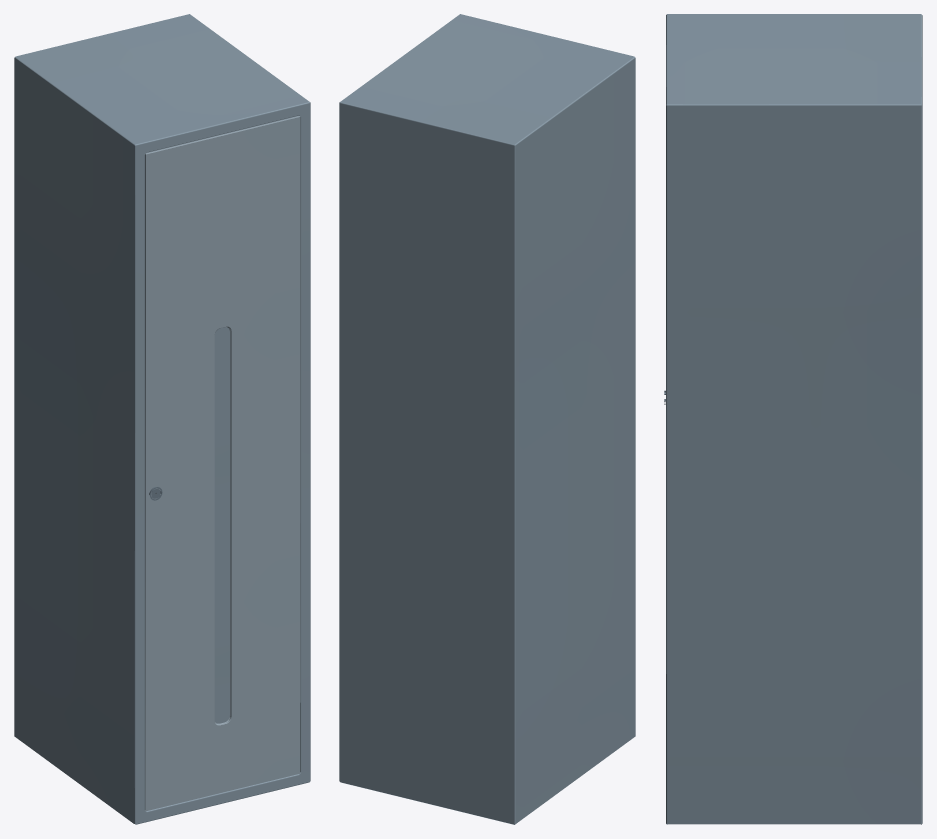
The model's file is SM_Locker_SingleDoor_Closed.fbx.
3 views of the same model, side by side, from view 1: azimuth 30°, elevation 25°; view 2: azimuth 150°, elevation 25°; view 3: azimuth 270°, elevation 25° (orthographic). The views are drawn at different scales.
Visible parts, largest first — view 1: SM_Locker_SingleDoor_Closed; view 2: SM_Locker_SingleDoor_Closed; view 3: SM_Locker_SingleDoor_Closed.
Boxes of the visible parts, left/top/right/bottom form: SM_Locker_SingleDoor_Closed: left=14, top=14, right=310, bottom=824; SM_Locker_SingleDoor_Closed: left=339, top=14, right=635, bottom=824; SM_Locker_SingleDoor_Closed: left=664, top=14, right=922, bottom=824.
Size of the model in its own units: 58.47 by 215 by 69.85.
